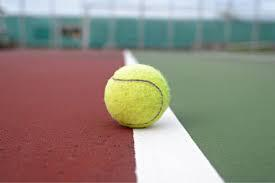tennis ball: (105, 65, 168, 130)
